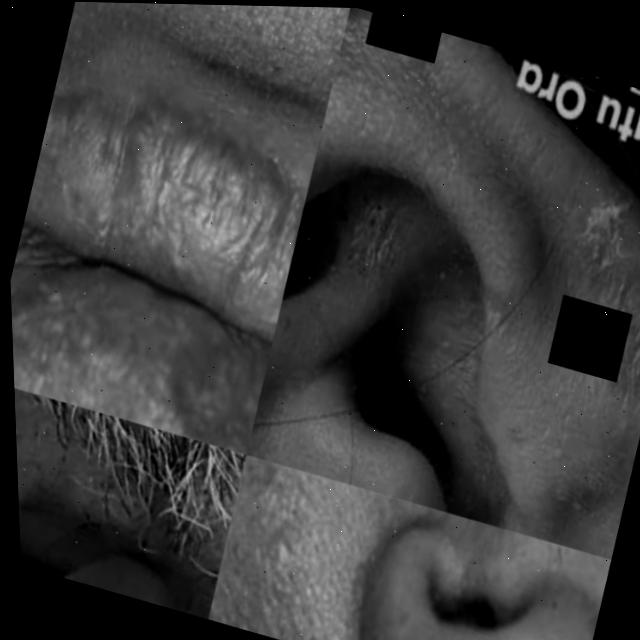lupus-detected: (257, 6, 640, 455), (0, 0, 351, 455), (201, 451, 423, 640), (307, 574, 590, 640)
